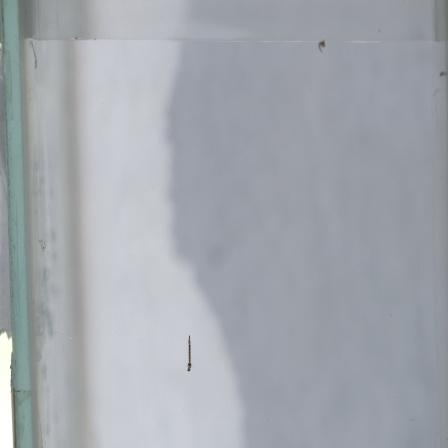Jentik-Nyamuk: (184, 332, 195, 375), (315, 38, 328, 56)
